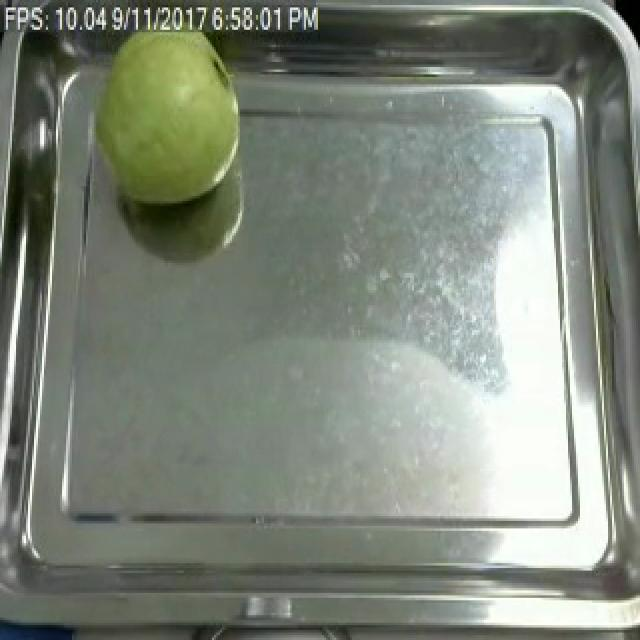Fruit: (44, 8, 250, 218)
